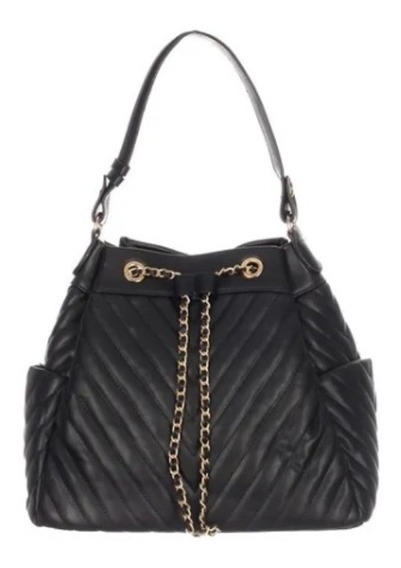cartera: (18, 28, 381, 536)
